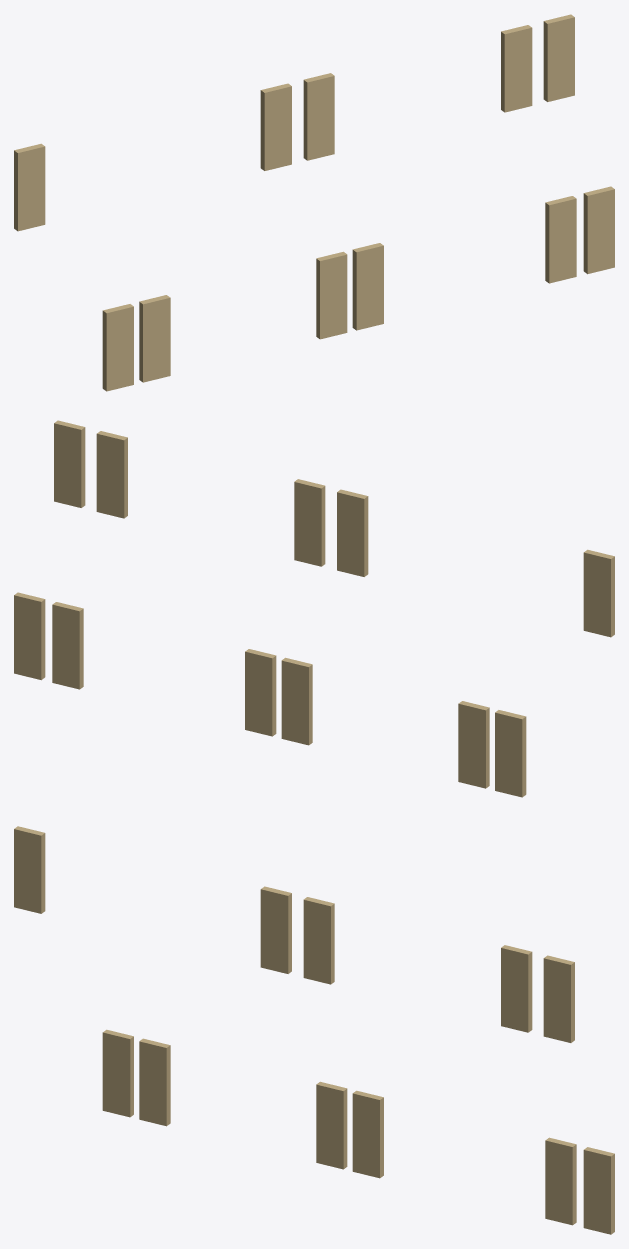
Rendered from doors.obj.
3 views of the same model, one above another, from view 1: azimuth 30°, elevation 25°; view 2: azimuth 150°, elevation 25°; view 3: azimuth 330°, elevation 25° (orthographic).
Visible parts, largest first — view 1: door.042; view 2: door.042; view 3: door.042.
Boxes of the visible parts, left/top/right/bottom form: door.042: left=14, top=14, right=614, bottom=391; door.042: left=14, top=420, right=614, bottom=797; door.042: left=14, top=826, right=614, bottom=1234.
Bounding box in the file's own units: 33.7 × 14.03 × 0.3798.
